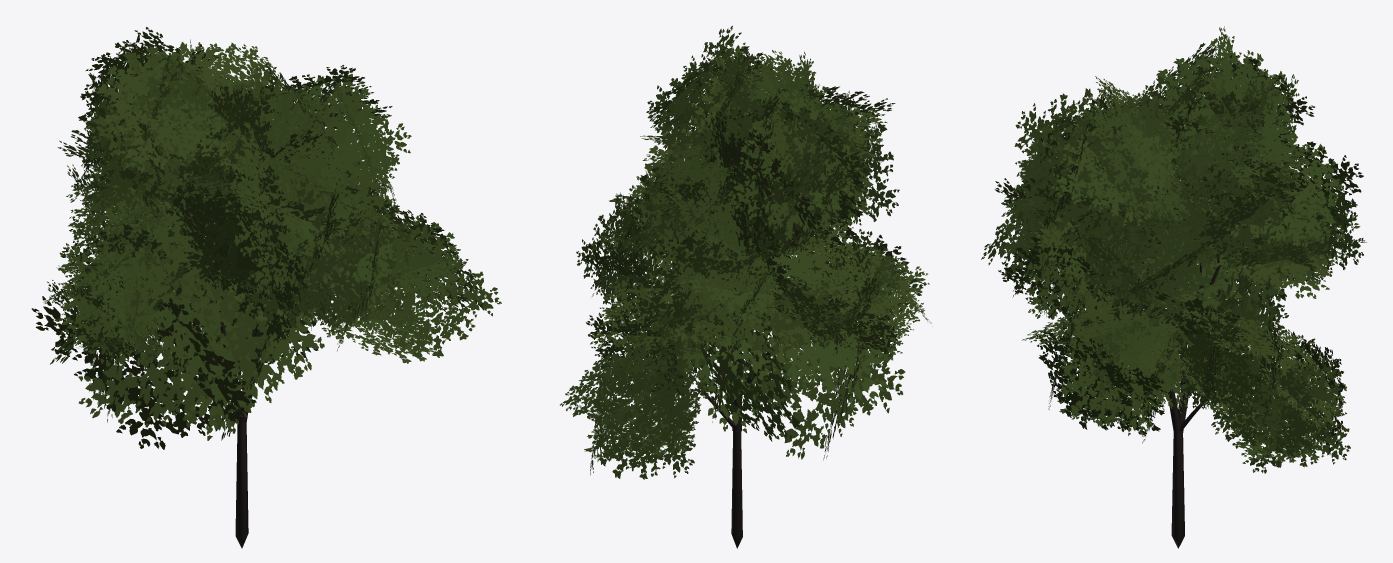
File: tree_small_d.glb
3 views of the same model, side by side, from view 1: azimuth 30°, elevation 25°; view 2: azimuth 150°, elevation 25°; view 3: azimuth 270°, elevation 25° (orthographic). The views are drawn at different scales.
Parts seen in each view (by area): view 1: Object_9, Object_8; view 2: Object_9, Object_8; view 3: Object_9, Object_8.
Boxes of the visible parts, x1,y1,x2,y2 form: Object_9: [31, 27, 501, 449]; Object_8: [192, 283, 271, 548]; Object_9: [560, 25, 931, 479]; Object_8: [688, 343, 778, 548]; Object_9: [981, 26, 1366, 473]; Object_8: [1141, 244, 1226, 548].
Size of the model in its own units: 5.95 by 7.42 by 5.55.
Materials: 2 (1 with a texture image).
